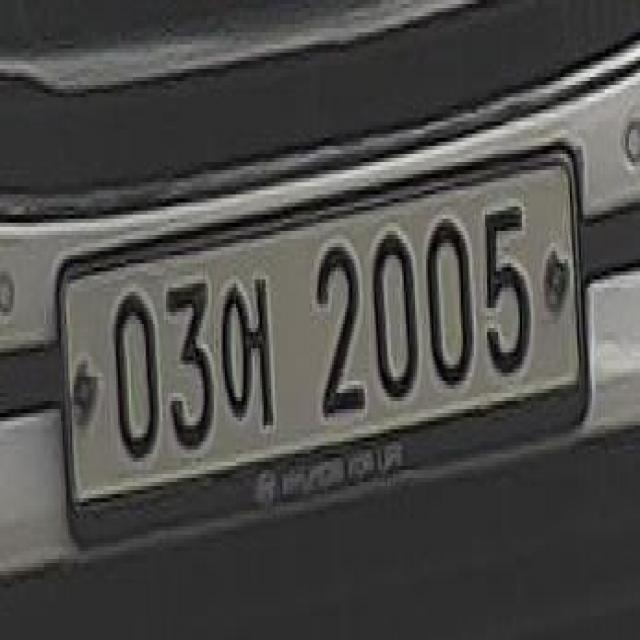illegal_plate: (55, 141, 594, 539)
